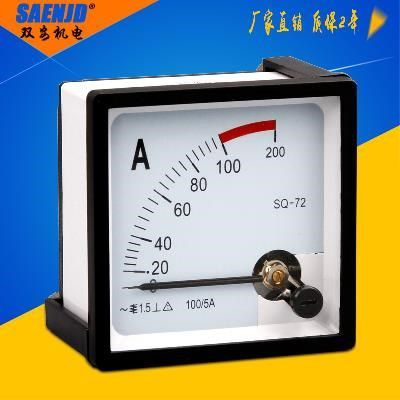pointer: (106, 96, 342, 353)
